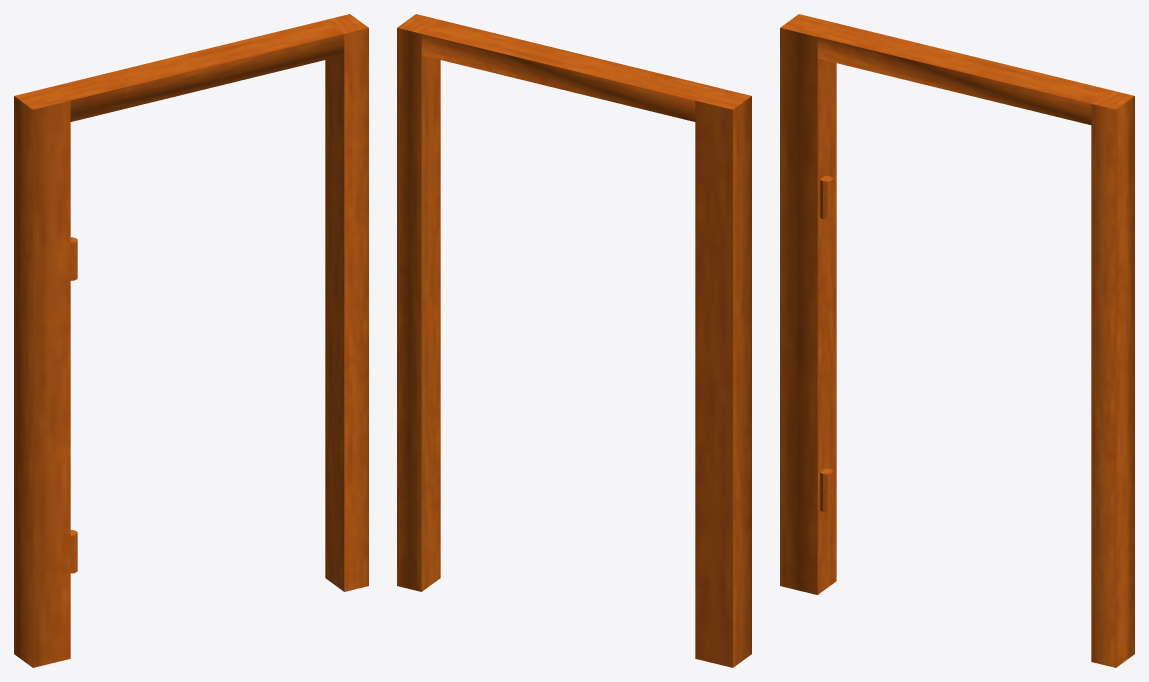
File: Door_Frame_B.fbx
3 views of the same model, side by side, from view 1: azimuth 30°, elevation 25°; view 2: azimuth 150°, elevation 25°; view 3: azimuth 330°, elevation 25° (orthographic).
Visible parts, largest first — view 1: Door_Frame_B; view 2: Door_Frame_B; view 3: Door_Frame_B.
Boxes of the visible parts, box(x1,y1,x2,y2) form: Door_Frame_B: box(14, 14, 368, 667); Door_Frame_B: box(397, 14, 751, 667); Door_Frame_B: box(780, 14, 1134, 667).
Size of the model in its own units: 1.23 by 1.95 by 0.1198.
